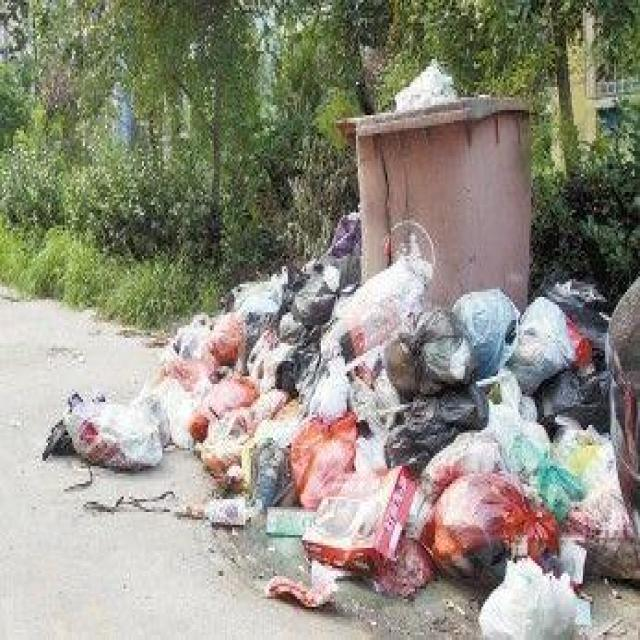garbage: (41, 205, 638, 637)
overflow: (336, 59, 529, 312)
